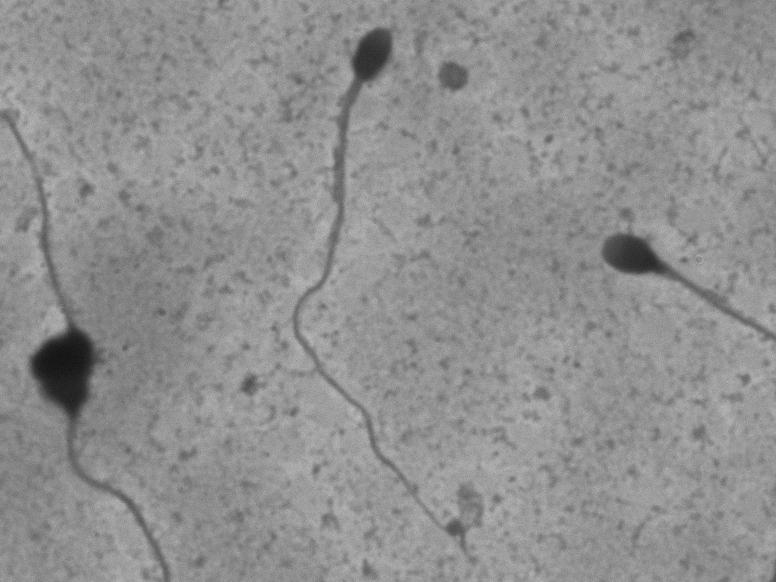Abnormal: (564, 180, 743, 372)
Normal: (277, 14, 476, 551)
